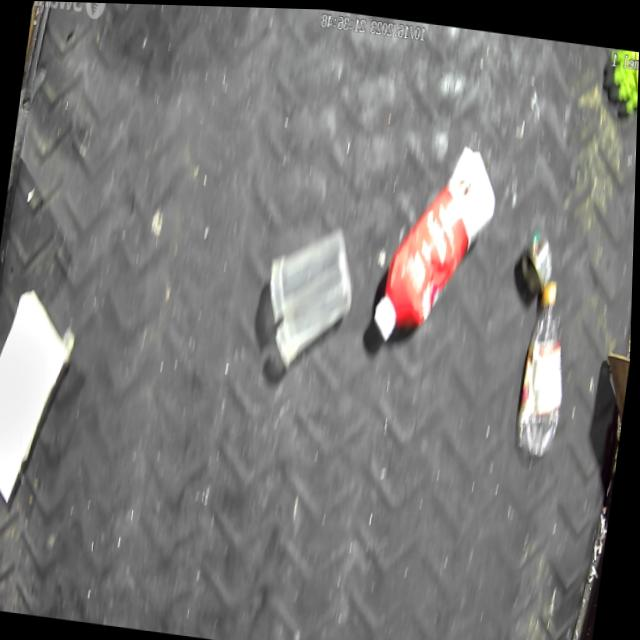can: (517, 224, 558, 291)
plastic_bottle: (514, 273, 579, 457)
